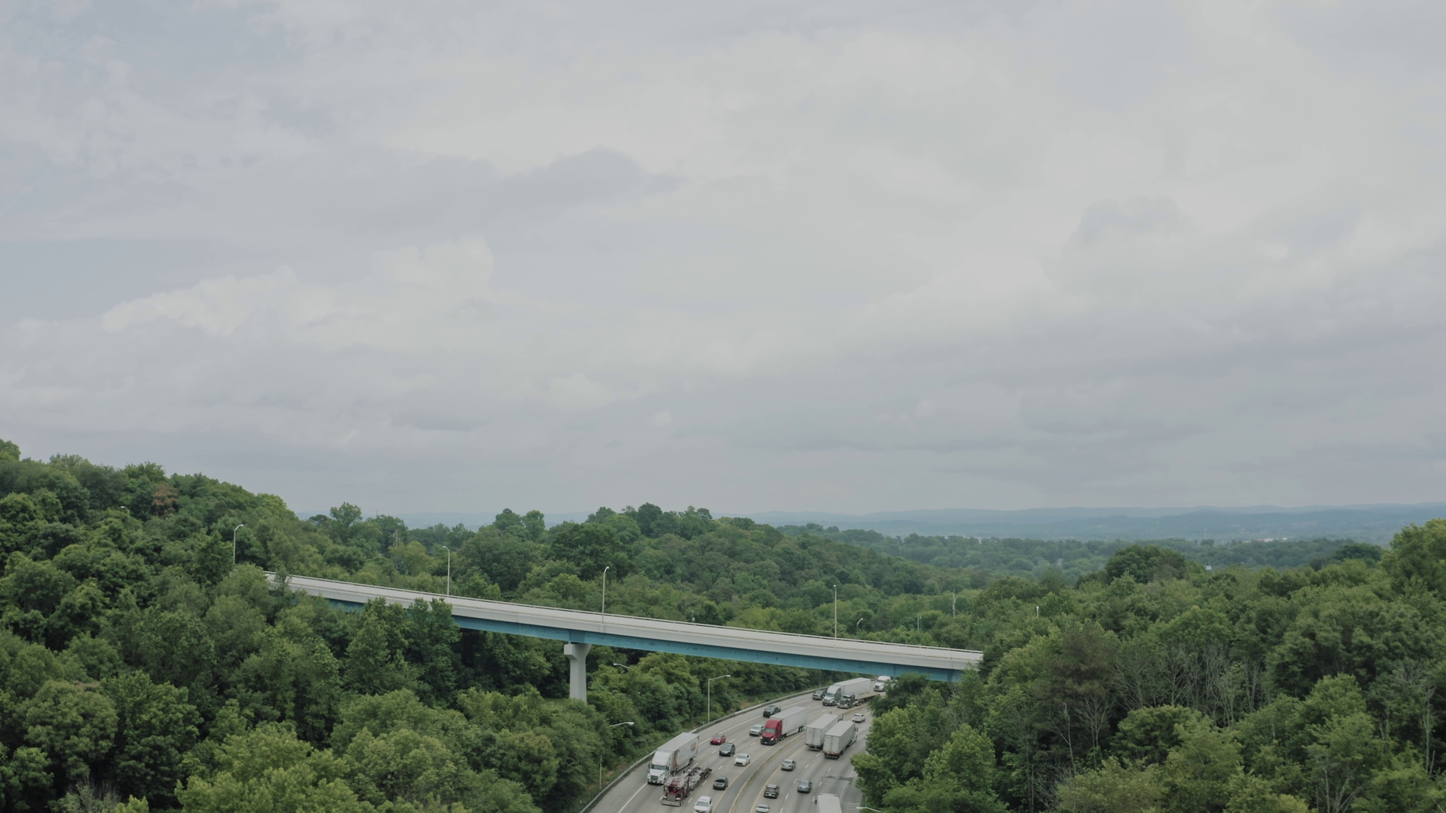Vehicle: (643, 752, 678, 784), (662, 778, 691, 807), (759, 721, 782, 750), (822, 684, 844, 708), (873, 674, 893, 695), (693, 795, 713, 813), (837, 694, 856, 709), (719, 742, 735, 757), (764, 784, 780, 799), (763, 705, 781, 718), (734, 753, 751, 766), (713, 776, 728, 790), (749, 724, 764, 737), (797, 780, 812, 793), (781, 759, 796, 771), (710, 734, 726, 745), (852, 713, 866, 723), (756, 804, 770, 813), (812, 689, 819, 700)
